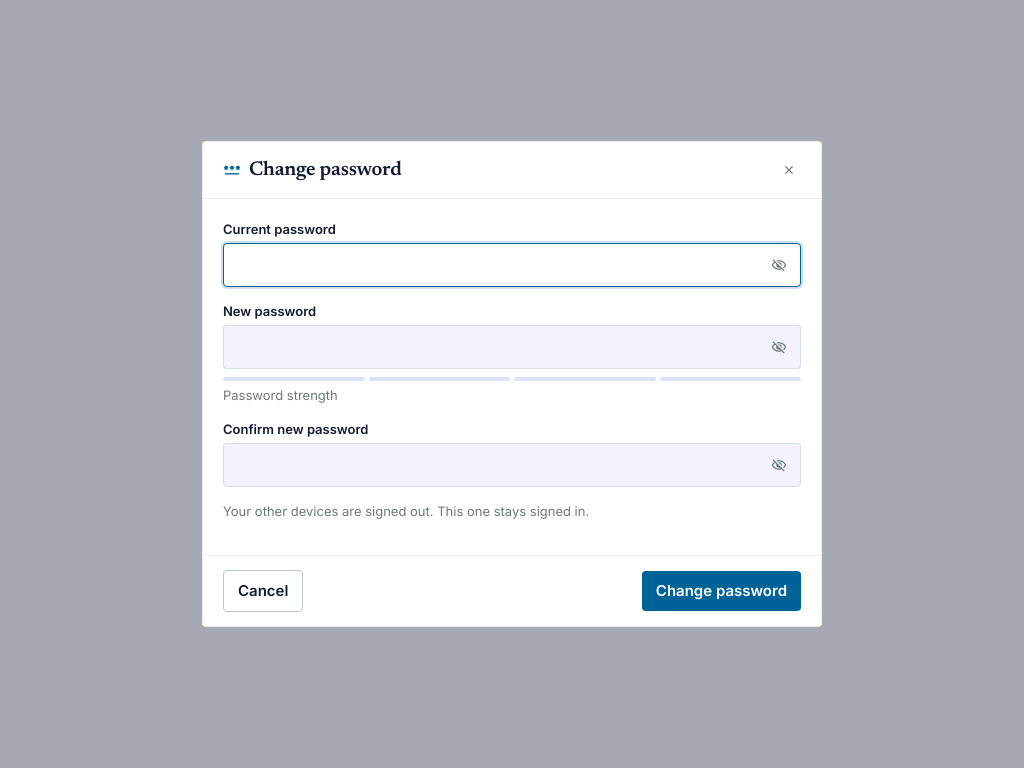
Test: ChangePasswordModal › changes the password, closes and tells you
This screenshot has width=1024, height=768.
Type "old-password-1" into the password field labelled "Current password" at (512, 265), box [223,243,801,287]
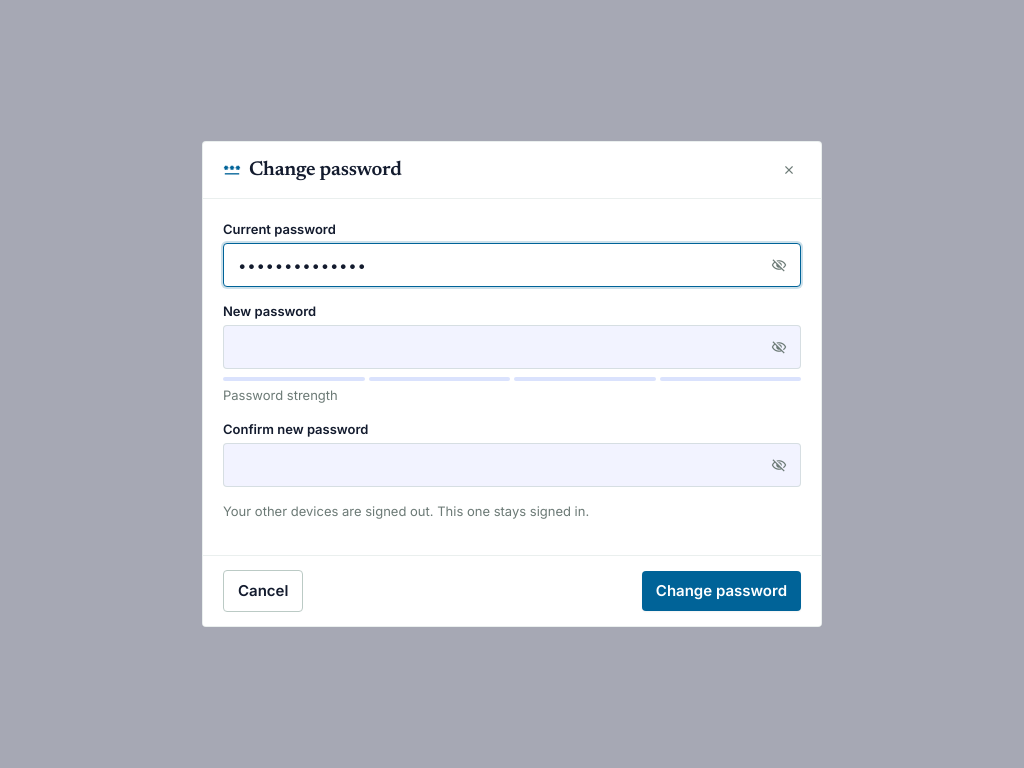
Type "a-new-long-password-2" into the password field labelled "New password" at (512, 347), box [223,325,801,369]
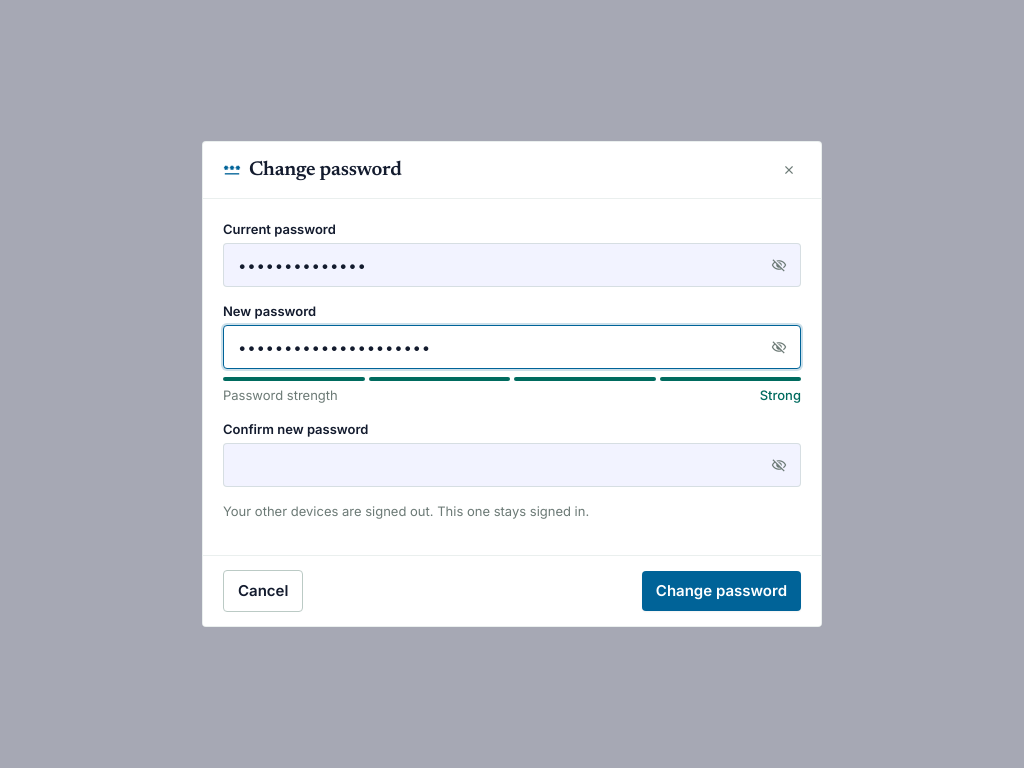
Type "a-new-long-password-2" into the password field labelled "Confirm new password" at (512, 465), box [223,443,801,487]
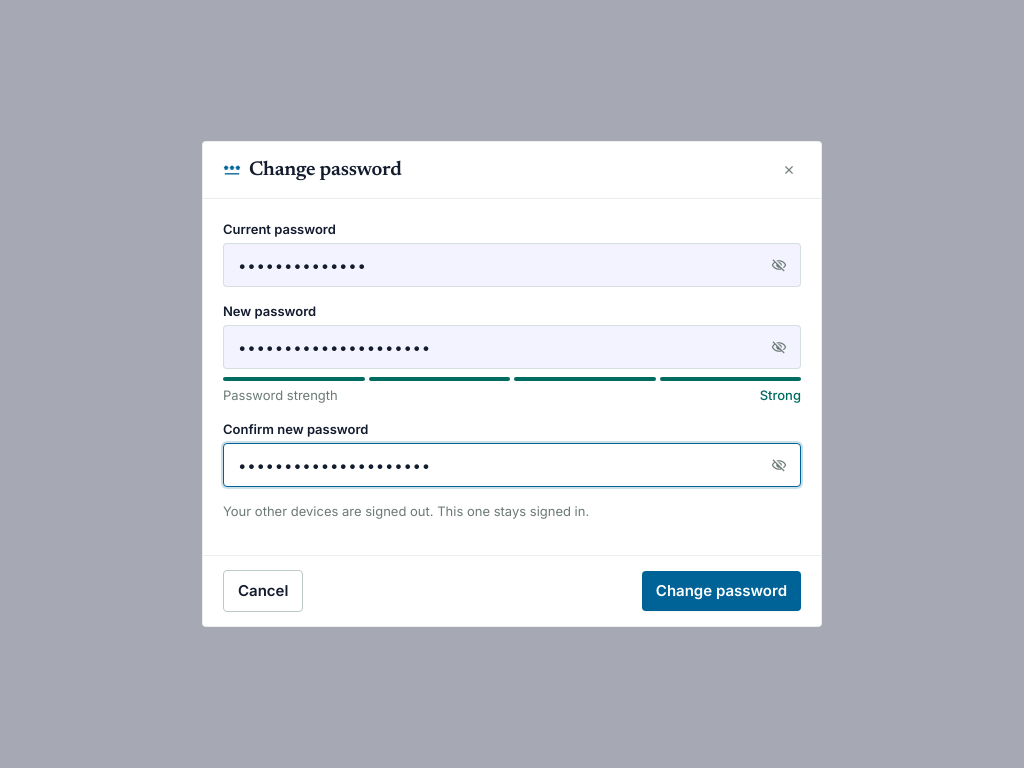
Click the button "Change password" at (721, 591), box [642,571,801,611]
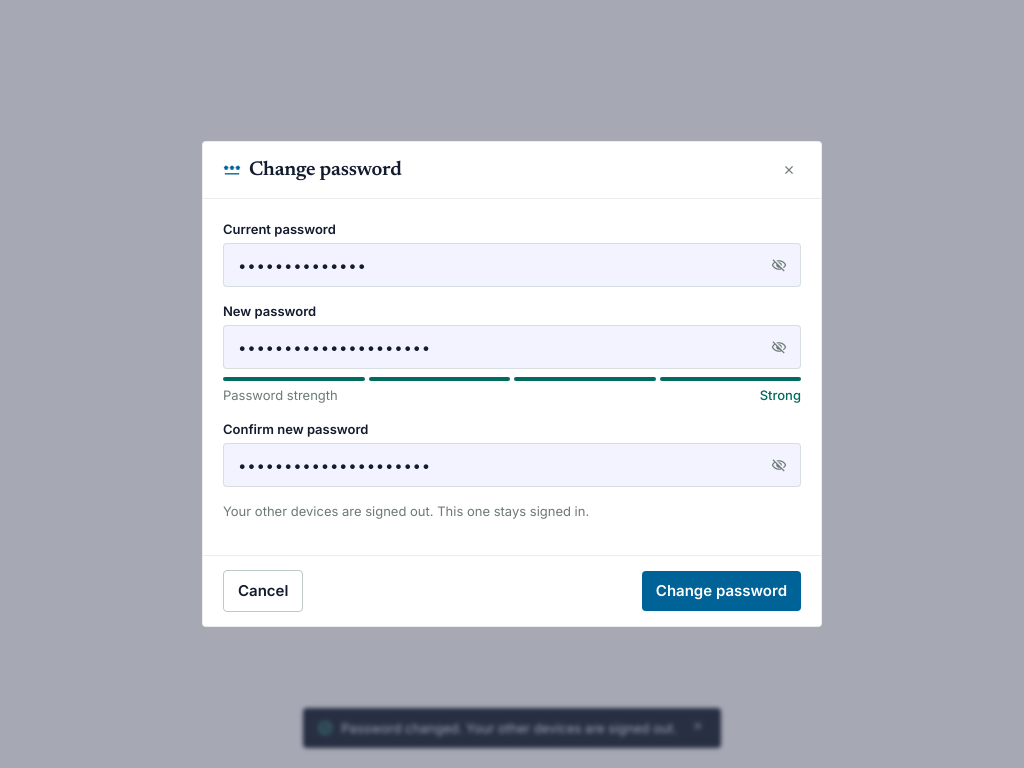
Expected: the text "Password changed. Your other devices are signed out." is shown, [341,718,677,738]
